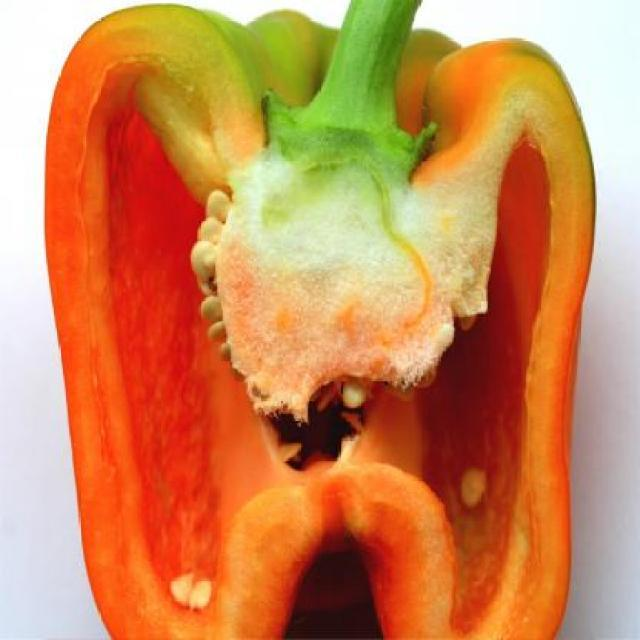Bell pepper: (44, 0, 595, 638)
